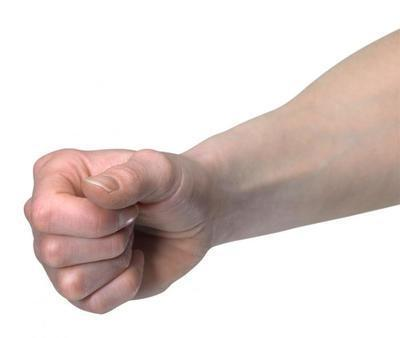closedhandfront: (13, 118, 212, 326)
